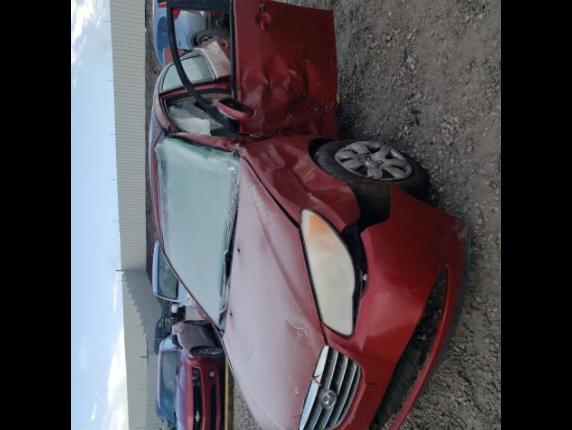Broken part: (322, 184, 457, 430), (154, 95, 241, 153), (335, 140, 413, 180), (264, 181, 301, 233), (237, 127, 331, 143)
Cracked: (155, 131, 239, 330), (221, 98, 250, 110)
Dent: (238, 16, 339, 135), (239, 133, 359, 229), (286, 318, 324, 355), (151, 117, 166, 143)
Missing part: (367, 265, 449, 430), (173, 6, 233, 119)
Scratch: (248, 181, 278, 216), (288, 321, 307, 338), (286, 69, 294, 90), (317, 102, 334, 109), (293, 384, 299, 398), (286, 110, 293, 117), (303, 59, 310, 62)
